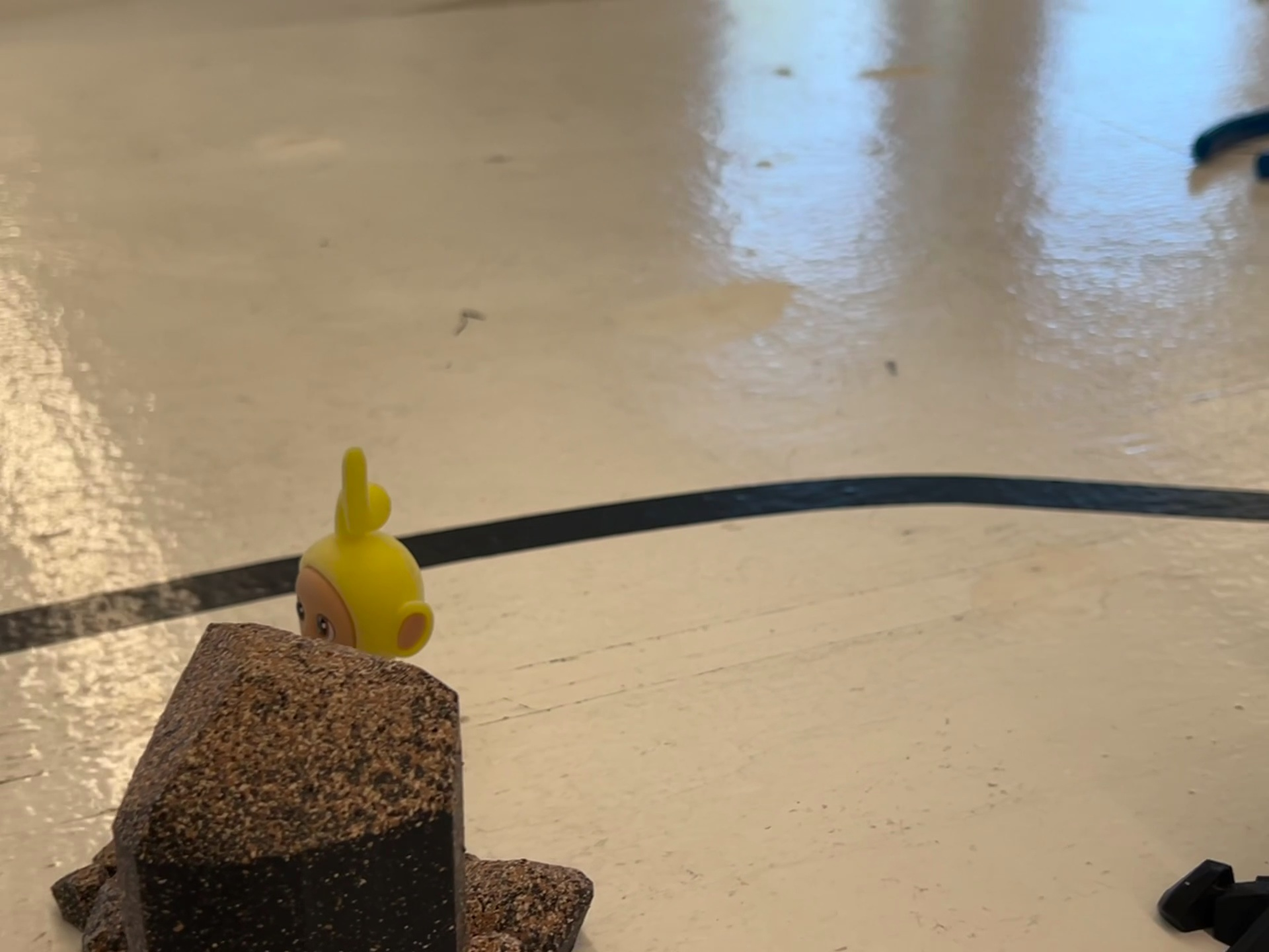teletubby: (295, 448, 434, 658)
